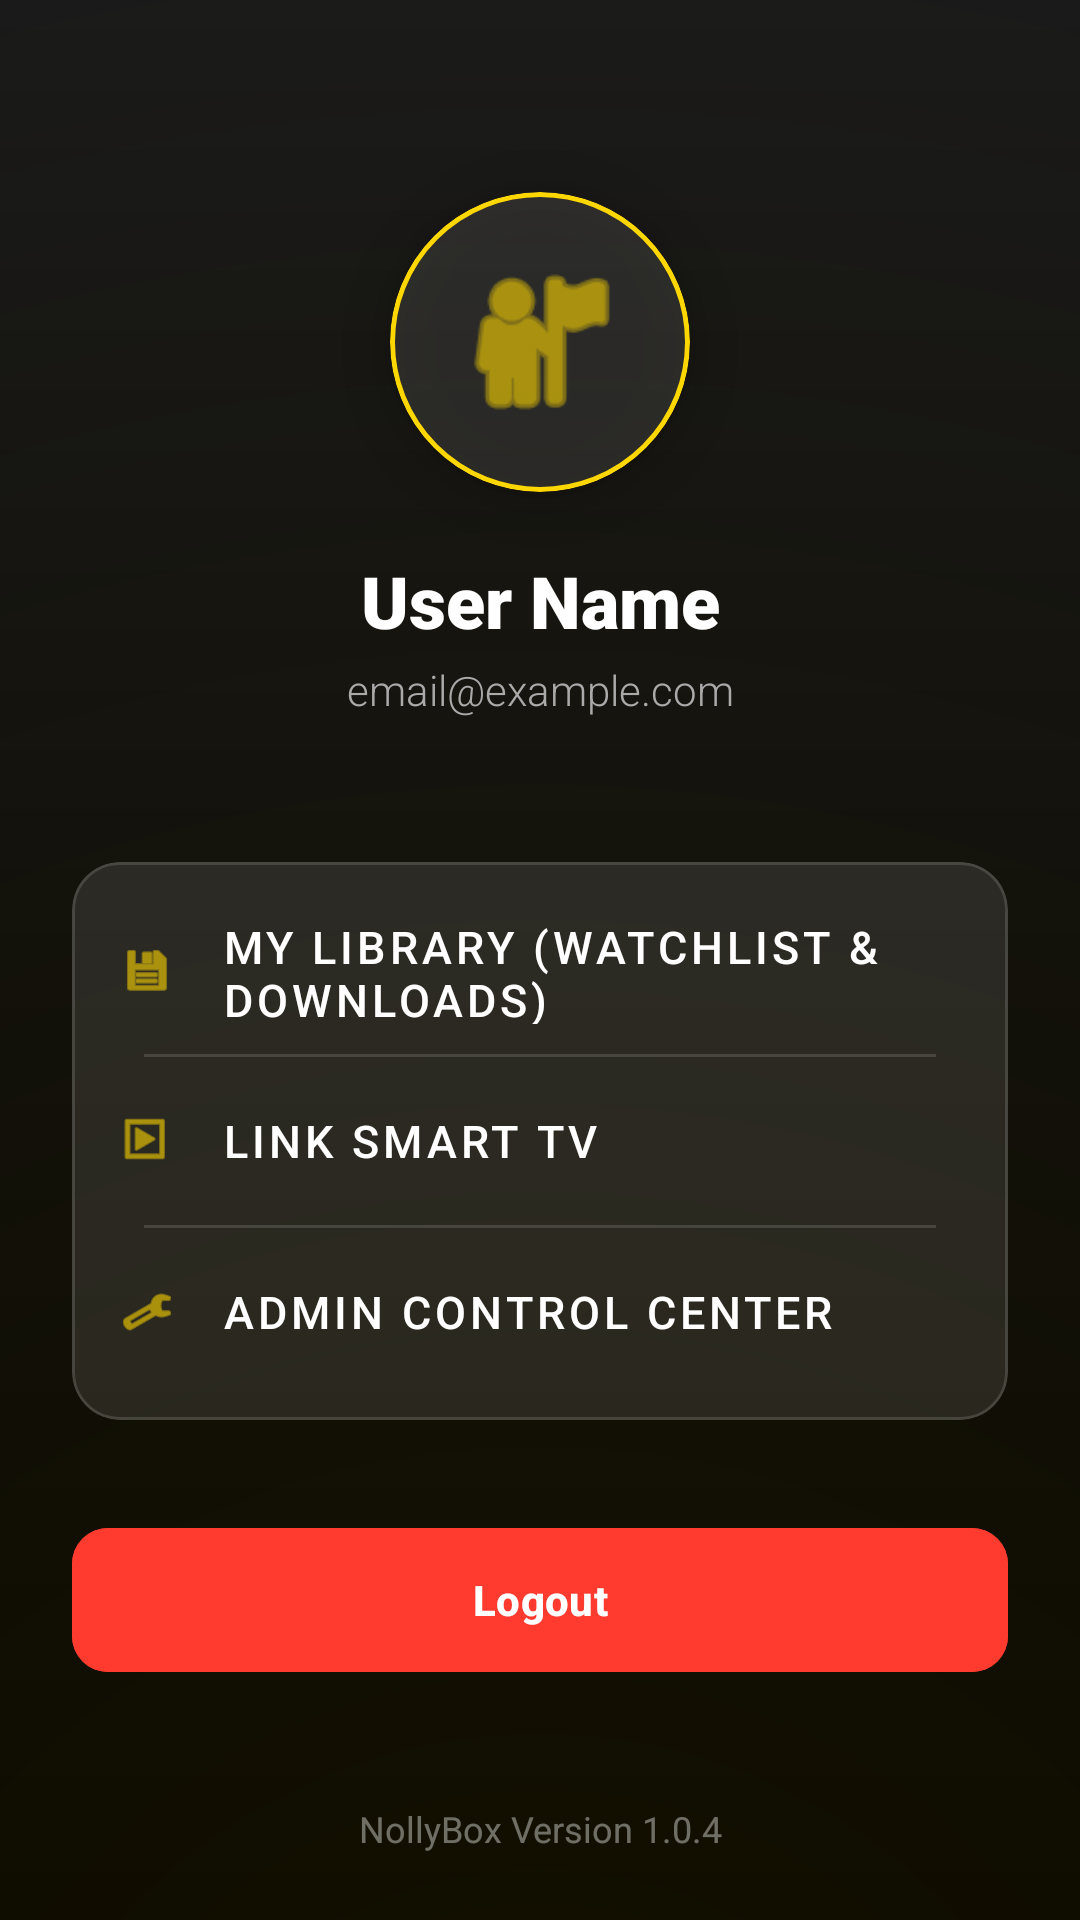

Screen size 1080x1920. Icon name, then its center in pixels as [x,y]:
myplaces: [540,342]
